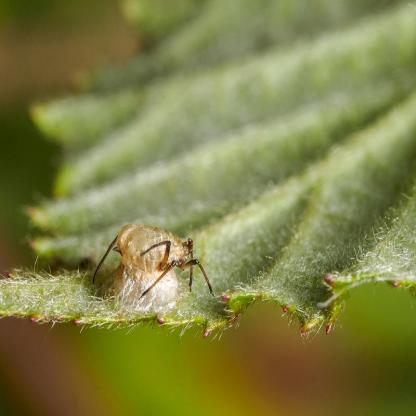aphid: (98, 216, 214, 306)
